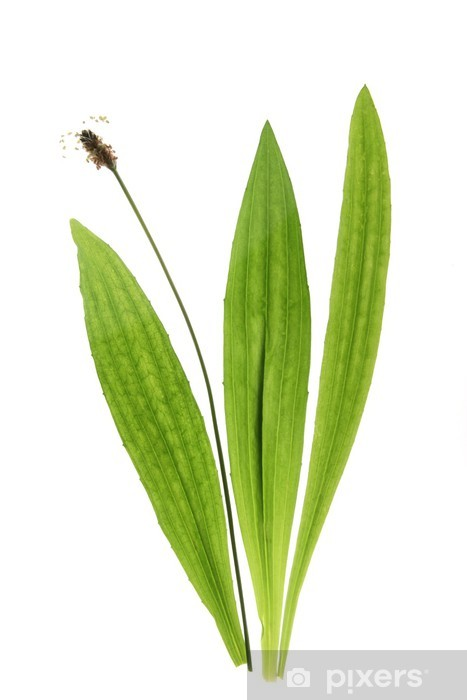buckhorn plantain: (26, 81, 407, 607)
